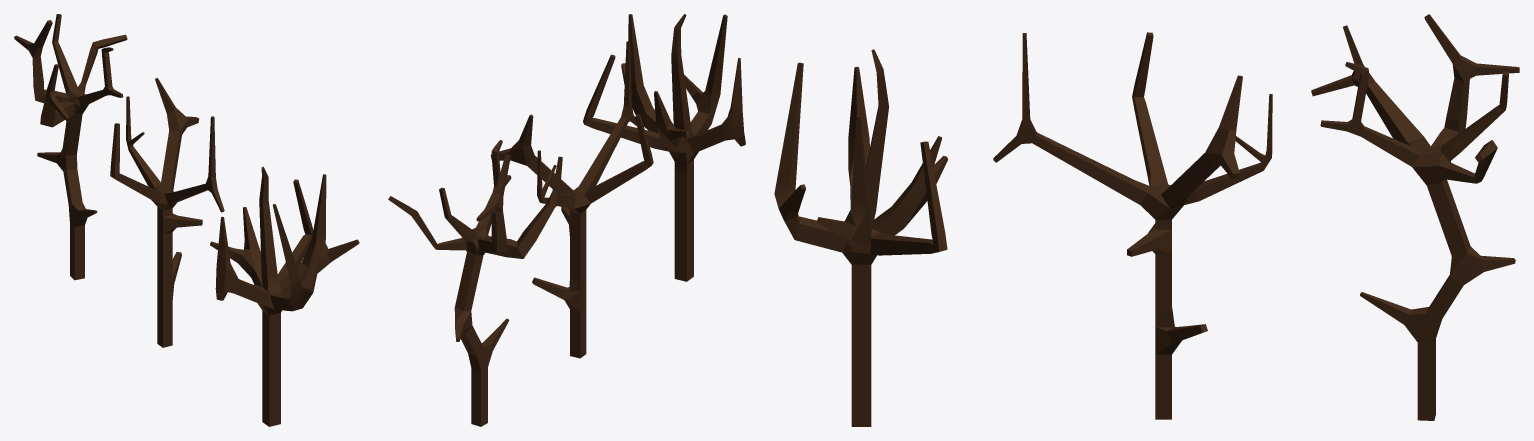
File: DeadTrees_Pack.fbx
The picture shows the model from 3 angles, left to right: view 1: azimuth 30°, elevation 25°; view 2: azimuth 150°, elevation 25°; view 3: azimuth 270°, elevation 25°; orthographic projection. The views are drawn at different scales.
Visible parts, largest first — view 1: Plane, Plane.001, Plane.002; view 2: Plane, Plane.002, Plane.001; view 3: Plane, Plane.002, Plane.001.
Boxes of the visible parts, x1=… form: Plane: x1=210, y1=166, x2=359, y2=426; Plane.001: x1=110, y1=78, x2=224, y2=347; Plane.002: x1=14, y1=14, x2=127, y2=280; Plane: x1=583, y1=14, x2=745, y2=281; Plane.002: x1=388, y1=140, x2=574, y2=426; Plane.001: x1=490, y1=41, x2=653, y2=358; Plane: x1=774, y1=49, x2=947, y2=426; Plane.002: x1=1311, y1=14, x2=1519, y2=420; Plane.001: x1=993, y1=32, x2=1272, y2=419.
Bounding box in the file's own units: 594 × 1088 × 1893.
